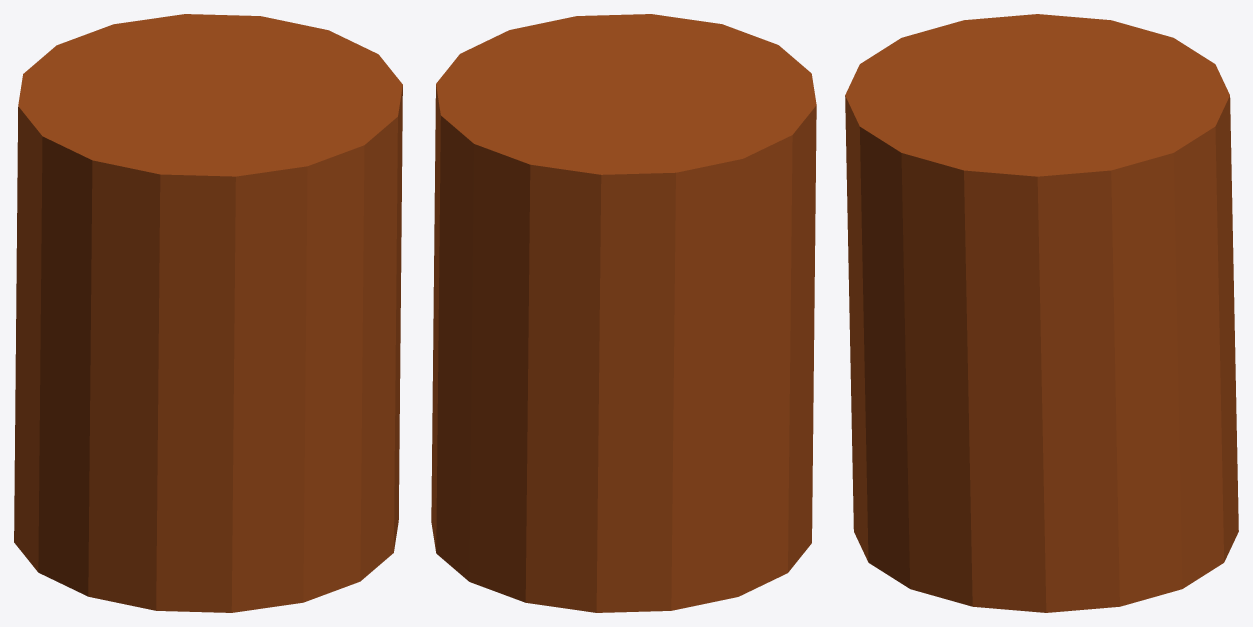
Rendered from agac_parca2.fbx.
3 renders of one model, left to right at view 1: azimuth 30°, elevation 25°; view 2: azimuth 150°, elevation 25°; view 3: azimuth 270°, elevation 25°, orthographic.
Visible parts, largest first — view 1: Cylinder.014; view 2: Cylinder.014; view 3: Cylinder.014.
Boxes of the visible parts, x1,y1,x2,y2 form: Cylinder.014: [14, 14, 402, 612]; Cylinder.014: [431, 14, 816, 612]; Cylinder.014: [845, 14, 1238, 612].
Bounding box in the file's own units: 200 × 250 × 205.
